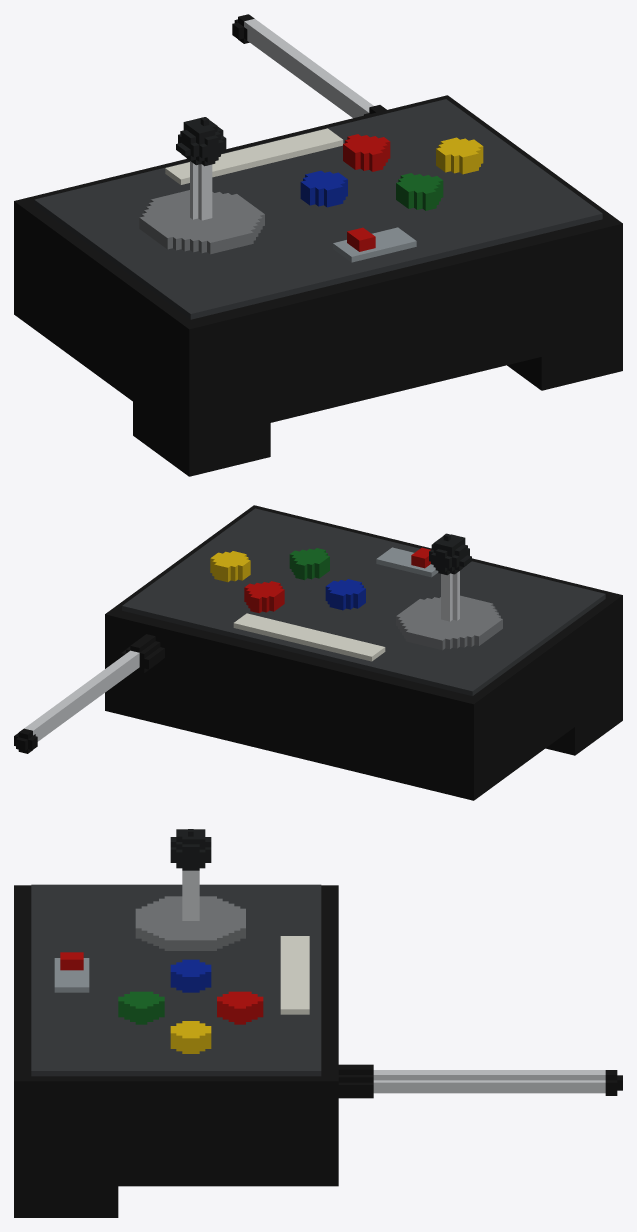
Rendered from radiocontrol.glb.
The picture shows the model from 3 angles, top to bottom: view 1: azimuth 30°, elevation 25°; view 2: azimuth 150°, elevation 25°; view 3: azimuth 270°, elevation 25°; orthographic projection. The views are drawn at different scales.
Parts seen in each view (by area): view 1: radiocontrol:compound; view 2: radiocontrol:compound; view 3: radiocontrol:compound.
Part boxes in pixels (<box>): radiocontrol:compound: <box>14,14,622,476</box>; radiocontrol:compound: <box>14,505,622,800</box>; radiocontrol:compound: <box>14,829,622,1217</box>.
Size of the model in its own units: 0.16 by 0.092 by 0.21.
